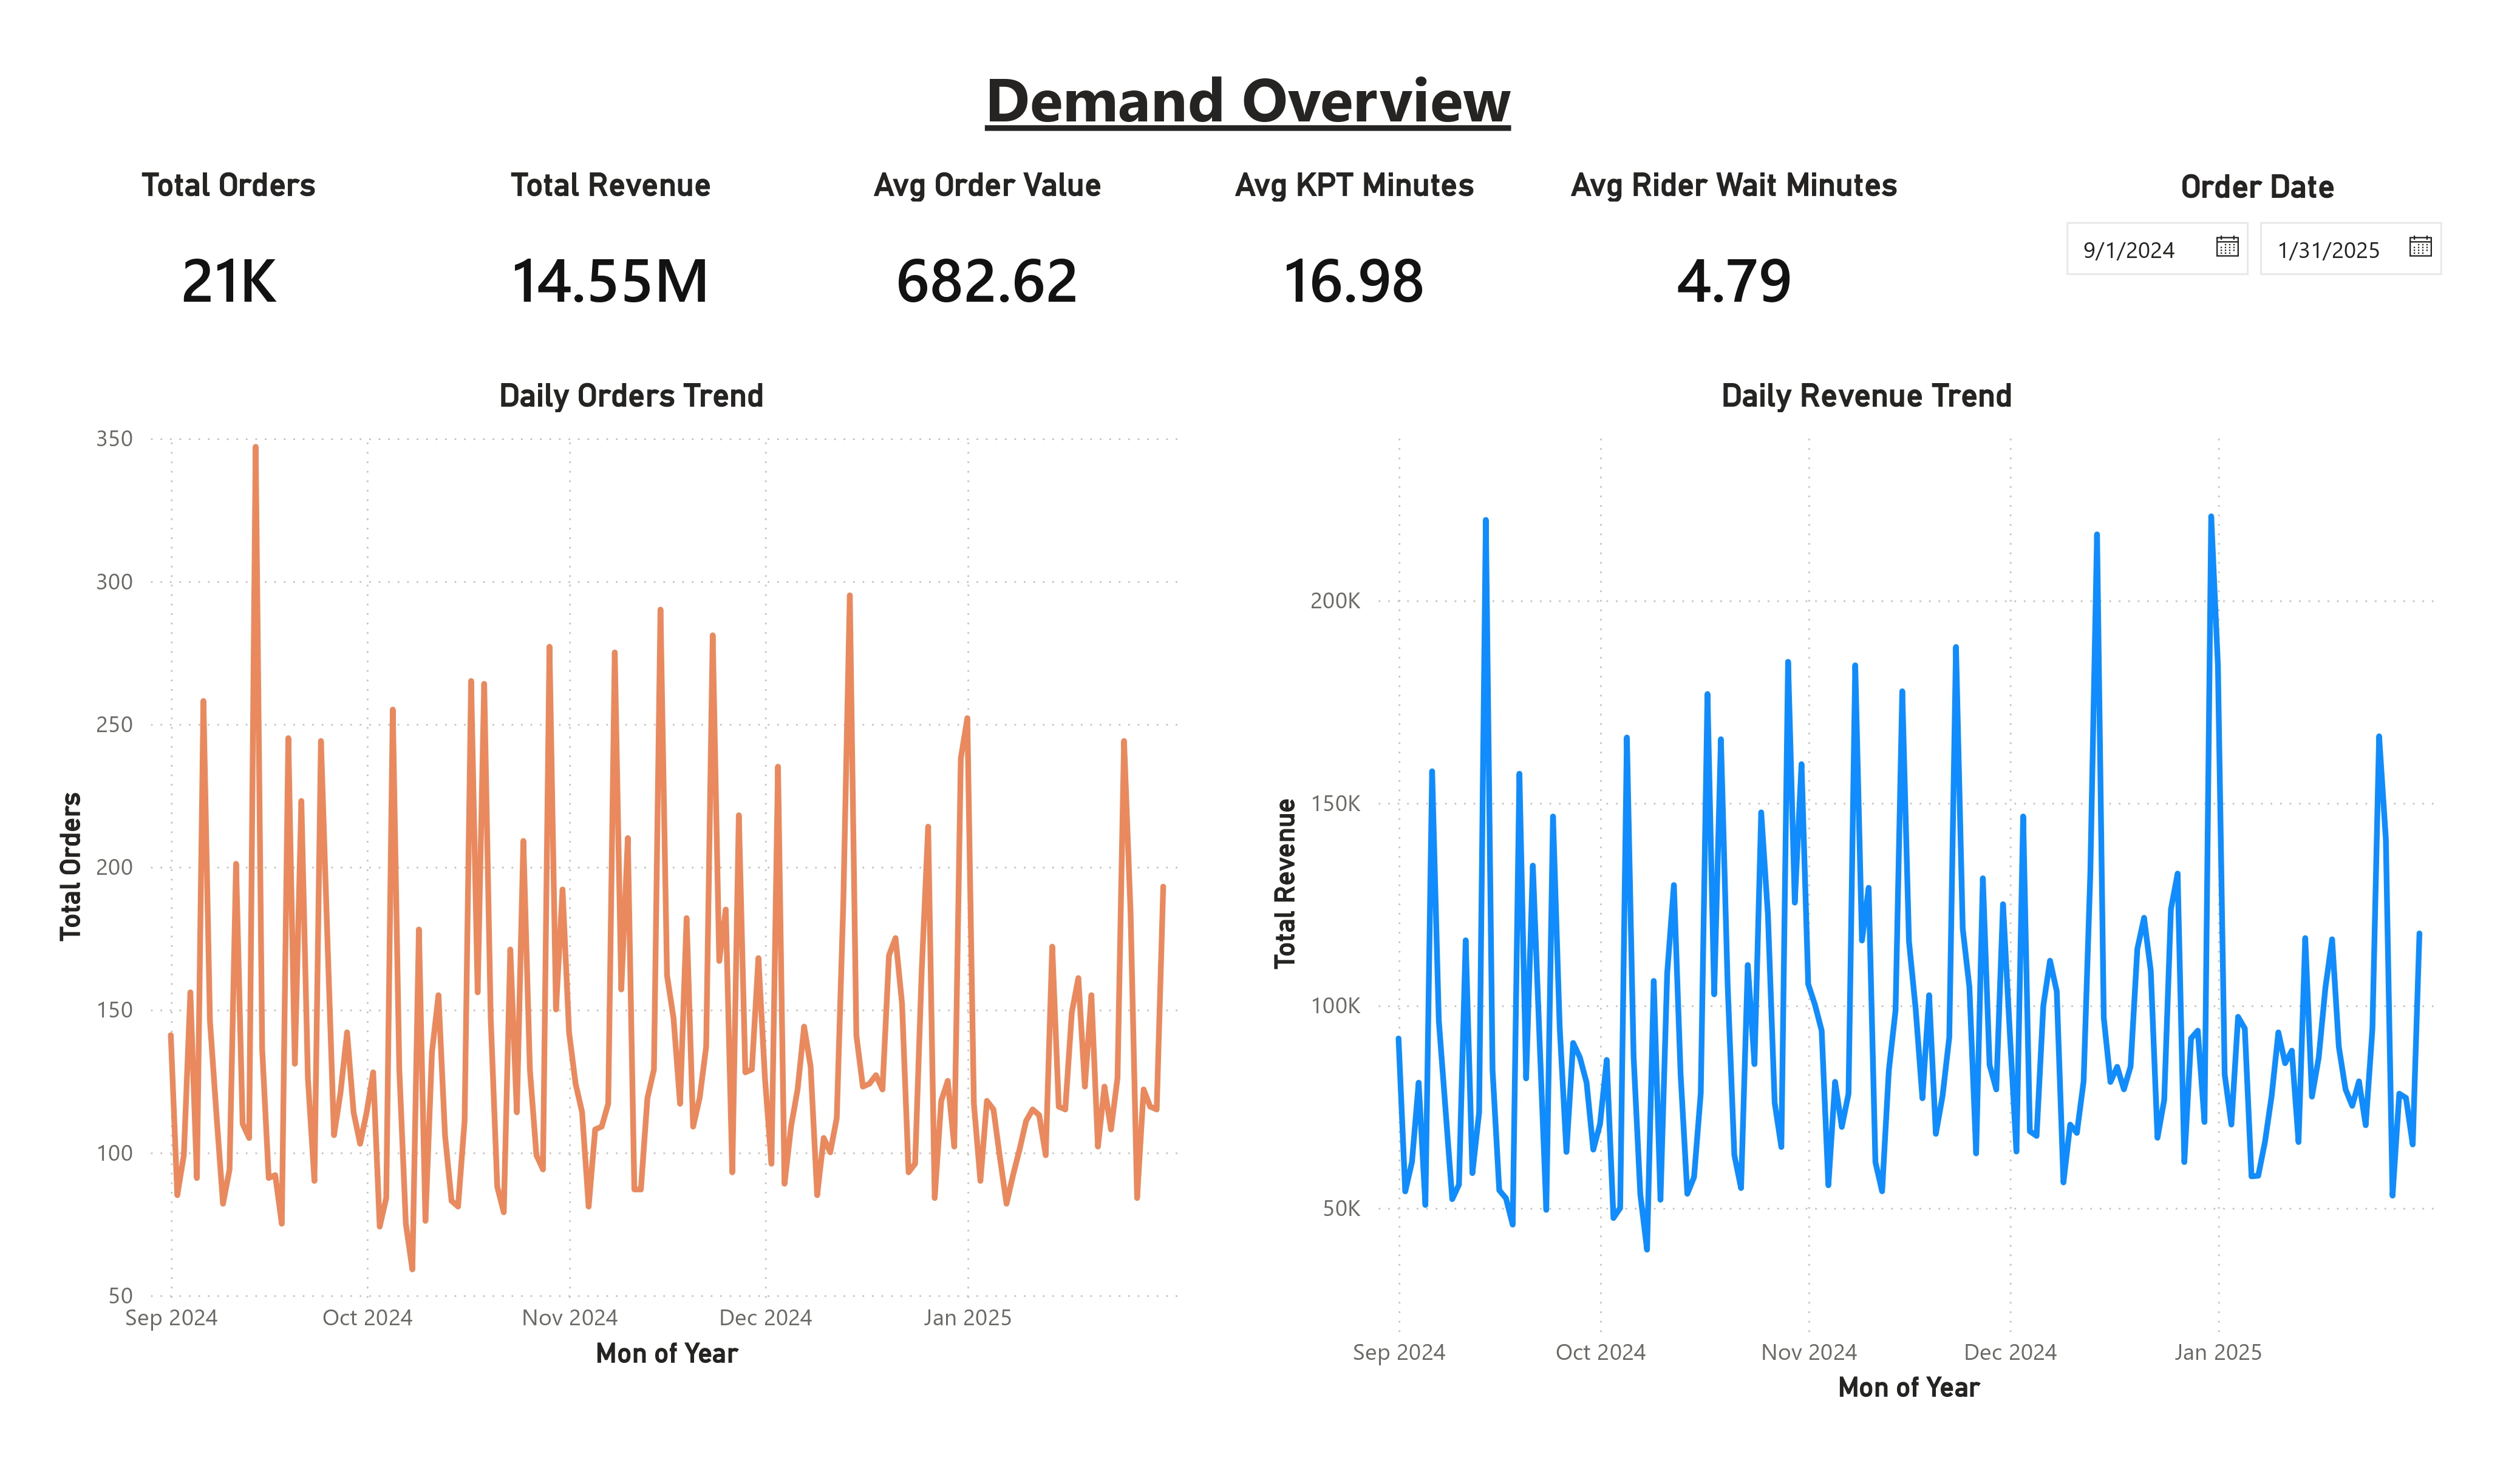

Layout of this report page (visuals, bound fields, positions):
{"tool":"powerbi","page":{"name":"Demand Overview","canvas":[1280,720],"ordinal":0},"visuals":[{"type":"textbox","box":[490,0,300,57.5],"z":0},{"type":"cardVisual","title":"Total Orders","fields":{"Data":["mart mart_daily_orders.Total Orders"]},"box":[0,63.3,193.3,96.7],"z":1000},{"type":"cardVisual","title":"Avg Order Value","fields":{"Data":["mart mart_daily_orders.Avg Order Value"]},"box":[403.3,63.3,186.7,96.7],"z":2000},{"type":"cardVisual","title":"Total Revenue","fields":{"Data":["mart mart_daily_orders.Total Revenue"]},"box":[193.3,63.3,210,96.7],"z":3000},{"type":"lineChart","title":"Daily Orders Trend","fields":{"Category":["mart mart_daily_orders.order_date"],"Y":["mart mart_daily_orders.Total Orders"]},"box":[0,174,618,528],"z":4000},{"type":"lineChart","title":"Daily Revenue Trend","fields":{"Category":["mart mart_daily_orders.order_date"],"Y":["mart_daily_orders.Total Revenue"]},"box":[640,174,640,546],"z":5000},{"type":"slicer","title":"Order Date","fields":{"Values":["mart mart_daily_orders.order_date"]},"box":[1052,64,228,74],"z":6000},{"type":"cardVisual","title":"Avg KPT Minutes","fields":{"Data":["Avg(mart mart_daily_orders.avg_kpt_minutes)"]},"box":[590,63.3,200,96.7],"z":7000},{"type":"cardVisual","title":"Avg Rider Wait Minutes","fields":{"Data":["Avg(mart_daily_orders.avg_rider_wait_minutes)"]},"box":[790,63.3,200,96.7],"z":8000}]}

Visuals, with their boxes on the page's 1280x720 design canvas (x1, y1, x2, y2). These are canvas units, not pixel positions in the 2520x1457 screenshot, which may show the page scaled, cropped or inside an application window:
textbox: {"x1": 490, "y1": 0, "x2": 790, "y2": 58}
"Total Orders" cardVisual: {"x1": 0, "y1": 63, "x2": 193, "y2": 160}
"Avg Order Value" cardVisual: {"x1": 403, "y1": 63, "x2": 590, "y2": 160}
"Total Revenue" cardVisual: {"x1": 193, "y1": 63, "x2": 403, "y2": 160}
"Daily Orders Trend" lineChart: {"x1": 0, "y1": 174, "x2": 618, "y2": 702}
"Daily Revenue Trend" lineChart: {"x1": 640, "y1": 174, "x2": 1280, "y2": 720}
"Order Date" slicer: {"x1": 1052, "y1": 64, "x2": 1280, "y2": 138}
"Avg KPT Minutes" cardVisual: {"x1": 590, "y1": 63, "x2": 790, "y2": 160}
"Avg Rider Wait Minutes" cardVisual: {"x1": 790, "y1": 63, "x2": 990, "y2": 160}
